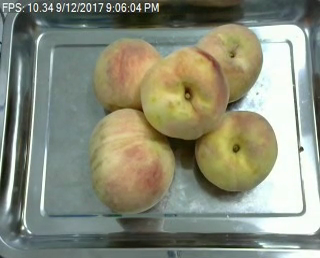Peach: (88, 108, 175, 215), (140, 47, 229, 141), (194, 110, 278, 192), (197, 21, 262, 104), (92, 36, 160, 112)
